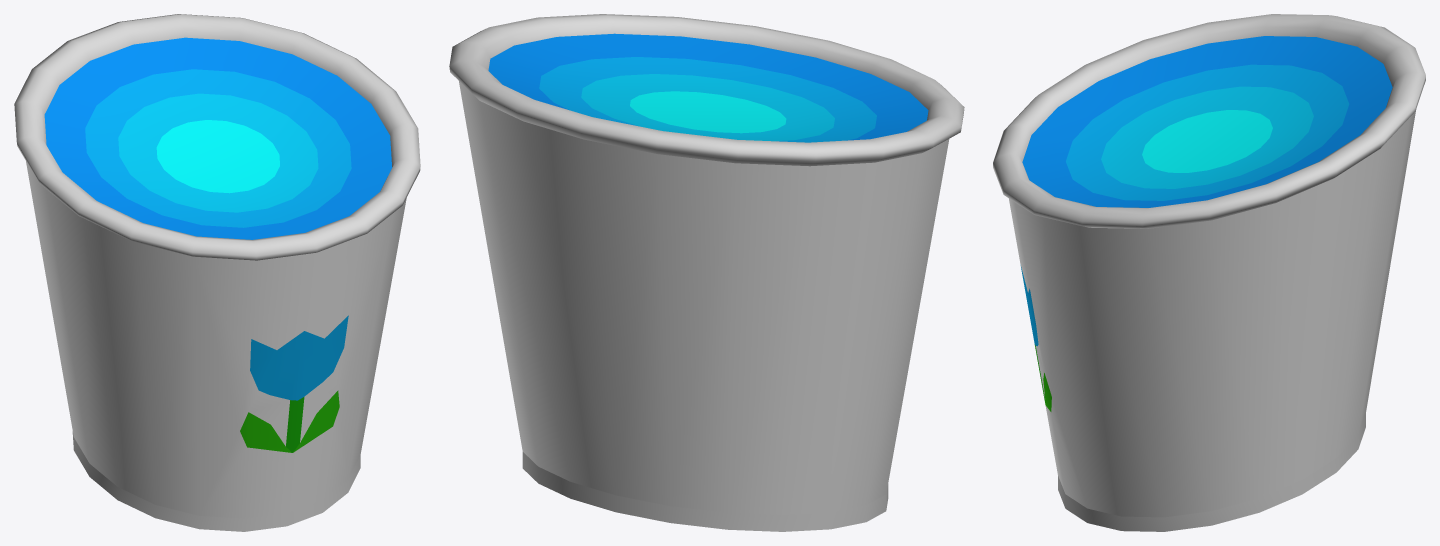
The model's file is D_FBX_08_Portal_B.fbx.
3 renders of one model, left to right at view 1: azimuth 30°, elevation 25°; view 2: azimuth 150°, elevation 25°; view 3: azimuth 270°, elevation 25°, orthographic. The views are drawn at different scales.
Parts seen in each view (by area): view 1: D_FBX_08_Portal_B; view 2: D_FBX_08_Portal_B; view 3: D_FBX_08_Portal_B.
Boxes of the visible parts, bbox=[...] form: D_FBX_08_Portal_B: bbox=[14, 14, 420, 531]; D_FBX_08_Portal_B: bbox=[449, 14, 964, 531]; D_FBX_08_Portal_B: bbox=[993, 14, 1425, 531].
Size of the model in its own units: 2.36 by 2.42 by 2.27.
